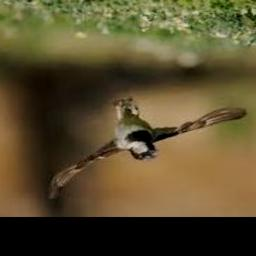Sparrow: (48, 98, 248, 199)
